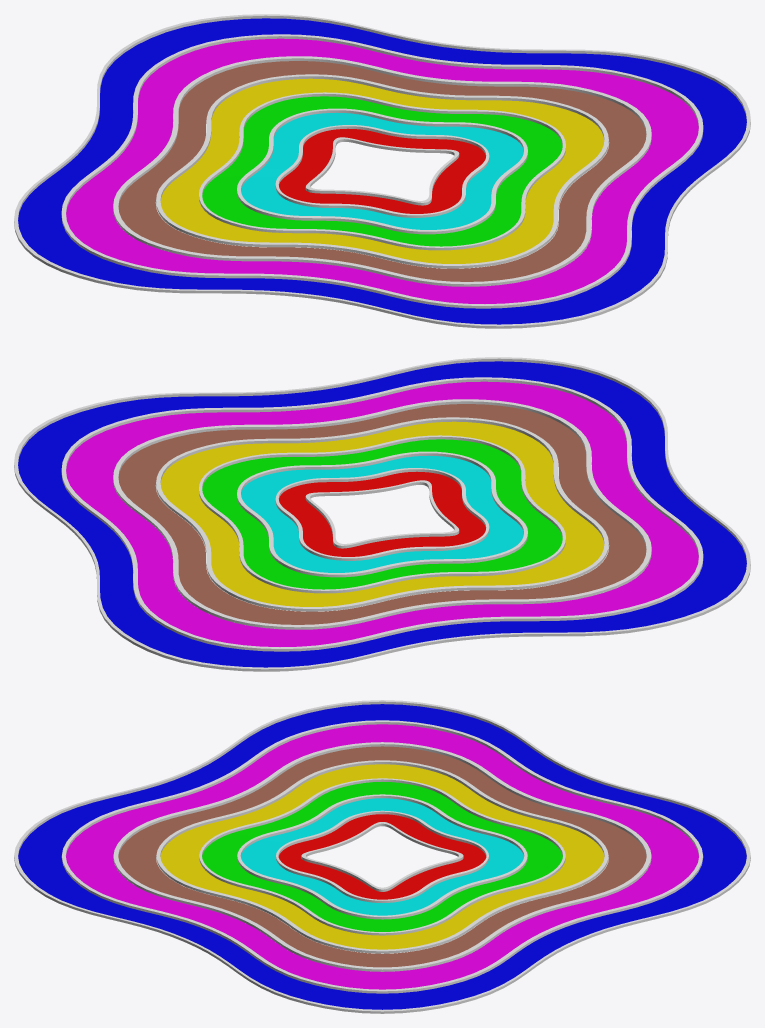
File: san_4.fbx
3 renders of one model, top to bottom at view 1: azimuth 30°, elevation 25°; view 2: azimuth 150°, elevation 25°; view 3: azimuth 270°, elevation 25°, orthographic. The views are drawn at different scales.
Visible parts, largest first — view 1: san4_vong7, san4_vong6, san4_vong5, san4_vong4, san4_vong3, san4_vong2, san4_vong1; view 2: san4_vong7, san4_vong6, san4_vong5, san4_vong4, san4_vong3, san4_vong2, san4_vong1; view 3: san4_vong7, san4_vong6, san4_vong5, san4_vong4, san4_vong3, san4_vong2, san4_vong1.
Boxes of the visible parts, x1,y1,x2,y2 form: san4_vong7: (14,14,750,328); san4_vong6: (61,34,703,308); san4_vong5: (113,56,651,286); san4_vong4: (156,74,608,268); san4_vong3: (199,92,565,250); san4_vong2: (237,108,527,234); san4_vong1: (275,125,489,217); san4_vong7: (14,357,750,671); san4_vong6: (61,377,703,651); san4_vong5: (113,399,651,629); san4_vong4: (156,417,608,611); san4_vong3: (199,435,565,593); san4_vong2: (237,451,527,577); san4_vong1: (275,468,489,560); san4_vong7: (14,700,750,1013); san4_vong6: (61,720,703,993); san4_vong5: (113,742,651,971); san4_vong4: (156,760,608,953); san4_vong3: (199,778,565,935); san4_vong2: (237,794,527,919); san4_vong1: (276,810,488,902).
Size of the model in its own units: 30.37 by 0.1145 by 30.37.
